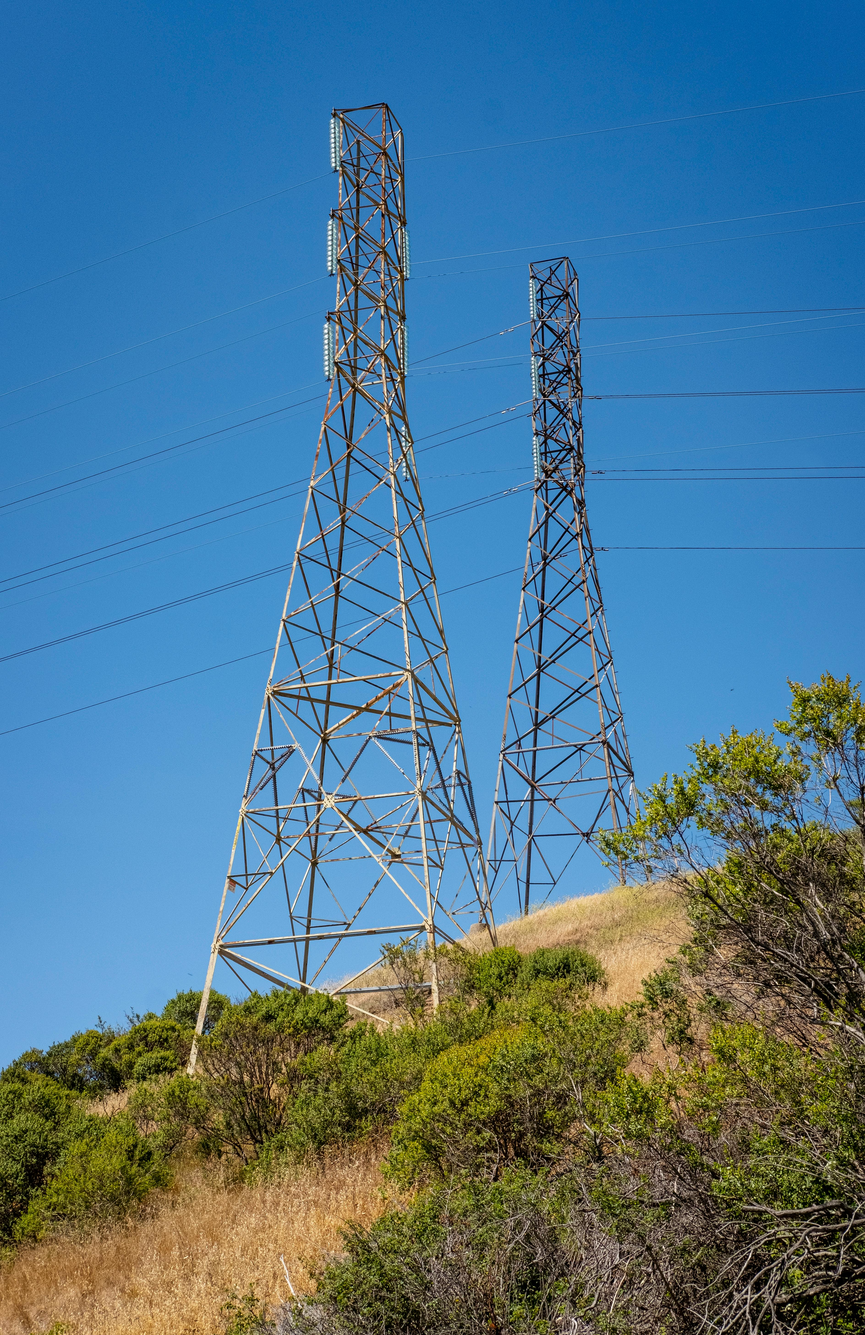insulator: (319, 311, 342, 374), (523, 415, 546, 472), (323, 211, 343, 275), (328, 107, 345, 171), (526, 351, 543, 402), (525, 275, 540, 328)
